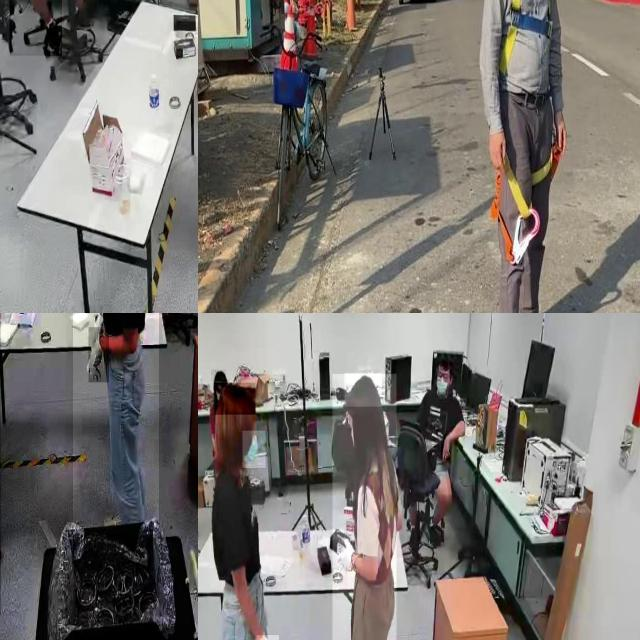Harness: (491, 158, 541, 266), (500, 0, 552, 76)
face_mask: (242, 431, 266, 468), (433, 370, 455, 397)
hand_glove: (88, 327, 110, 383), (336, 534, 362, 576)
hand_noglove: (441, 433, 451, 461)
head_nohelmet: (214, 382, 256, 416), (344, 373, 382, 407), (435, 352, 453, 367), (211, 369, 227, 382)
person: (209, 389, 294, 640), (72, 313, 159, 535), (332, 374, 397, 640), (419, 348, 465, 528), (9, 0, 62, 56)
shoes: (44, 12, 65, 55)
